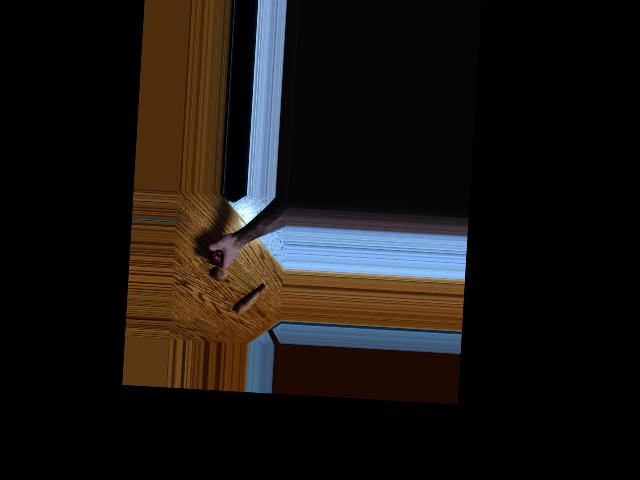onion: (211, 264, 227, 282)
